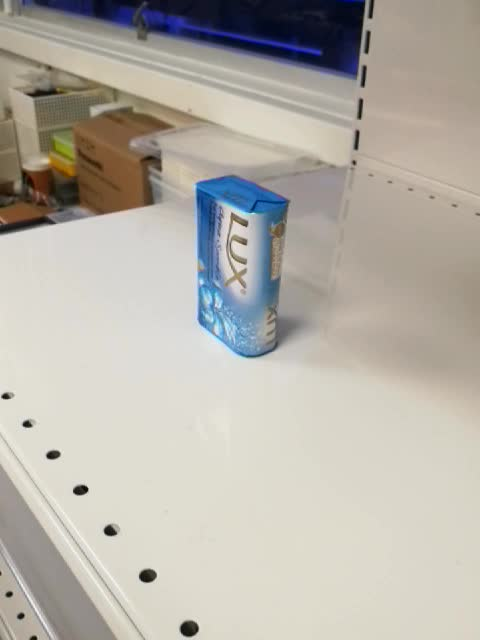soap: (194, 172, 292, 361)
